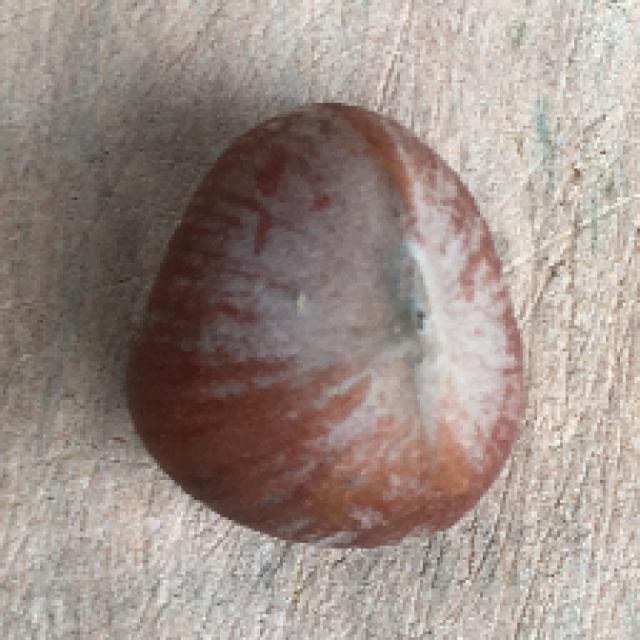qualityHazelnut: (116, 102, 534, 557)
